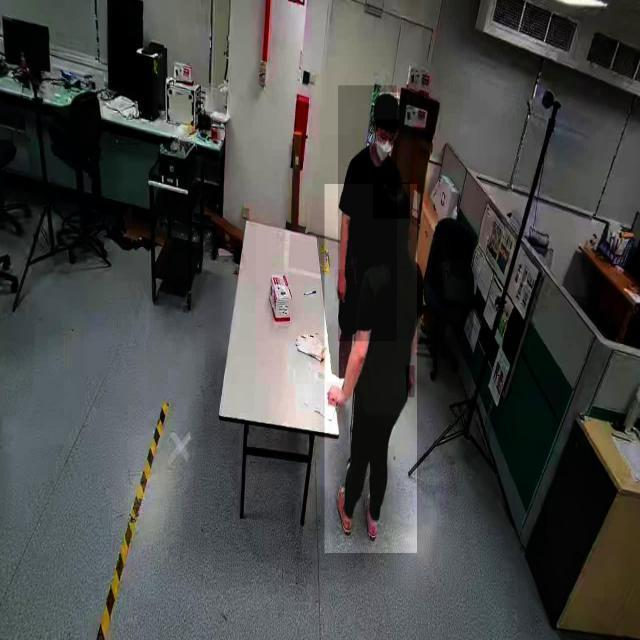boots: (334, 482, 354, 534), (363, 488, 381, 543)
